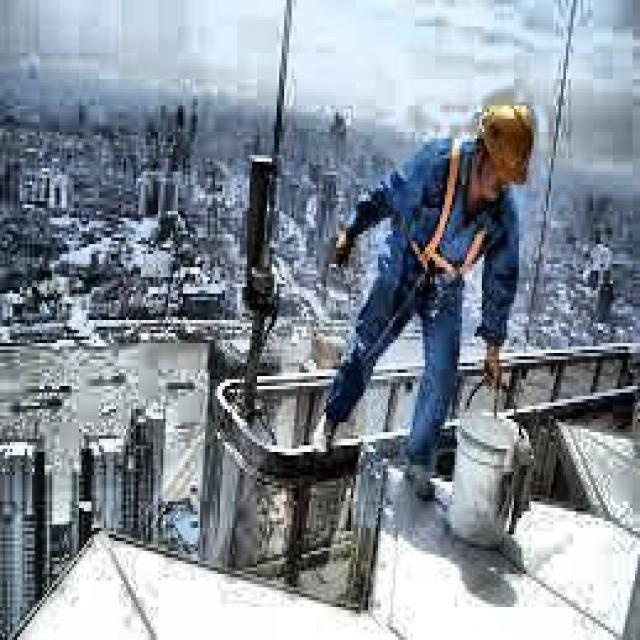Arnes_seguridad: (412, 141, 485, 291)
